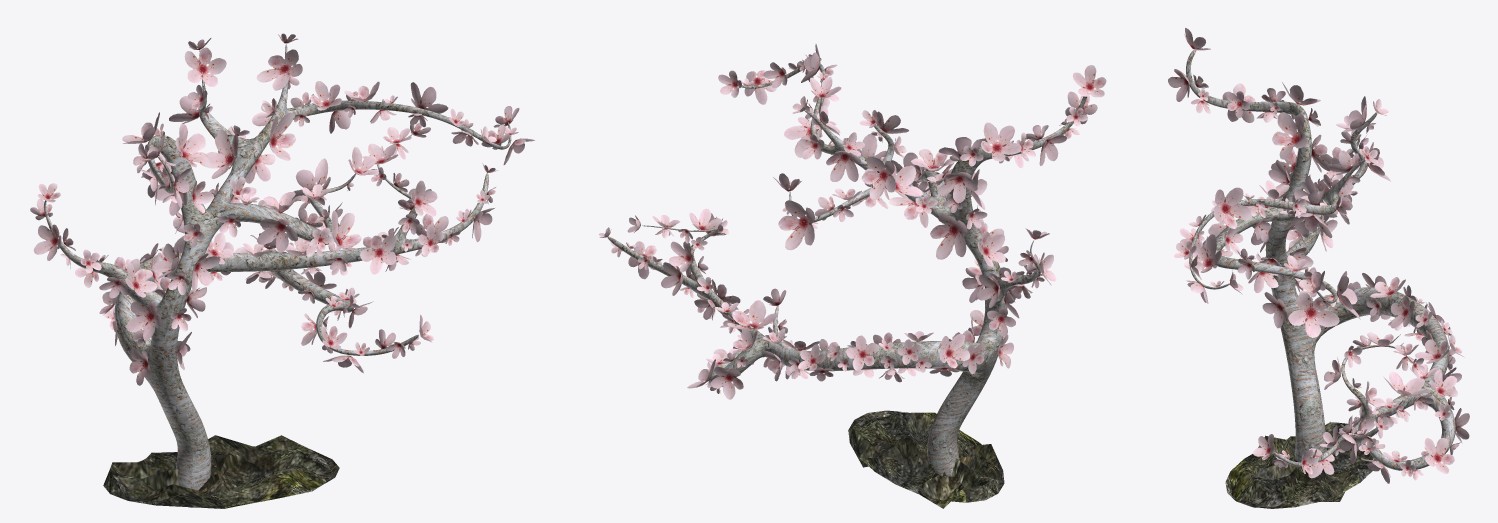
The model's file is Three_front.glb.
The picture shows the model from 3 angles, left to right: view 1: azimuth 30°, elevation 25°; view 2: azimuth 150°, elevation 25°; view 3: azimuth 270°, elevation 25°; orthographic projection. The views are drawn at different scales.
Parts seen in each view (by area): view 1: pPlane13; view 2: pPlane13; view 3: pPlane13.
Part boxes in pixels (x1,y1,x2,y2): pPlane13: (30, 33, 534, 508); pPlane13: (598, 44, 1106, 508); pPlane13: (1168, 28, 1469, 508).
Size of the model in its own units: 1.37 by 1.19 by 0.8334.
Materials: 4 (4 with a texture image).
